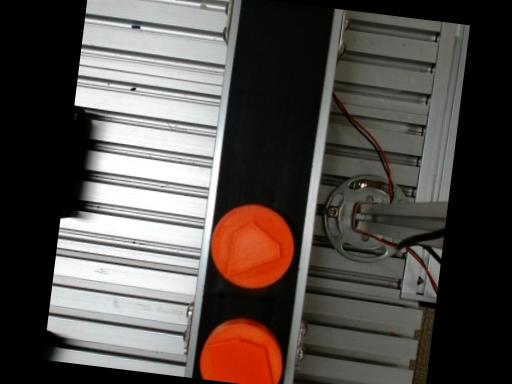Not_Square: (224, 219, 281, 277), (204, 337, 271, 384)
Orange_Waper: (210, 204, 293, 288), (198, 318, 282, 384)
